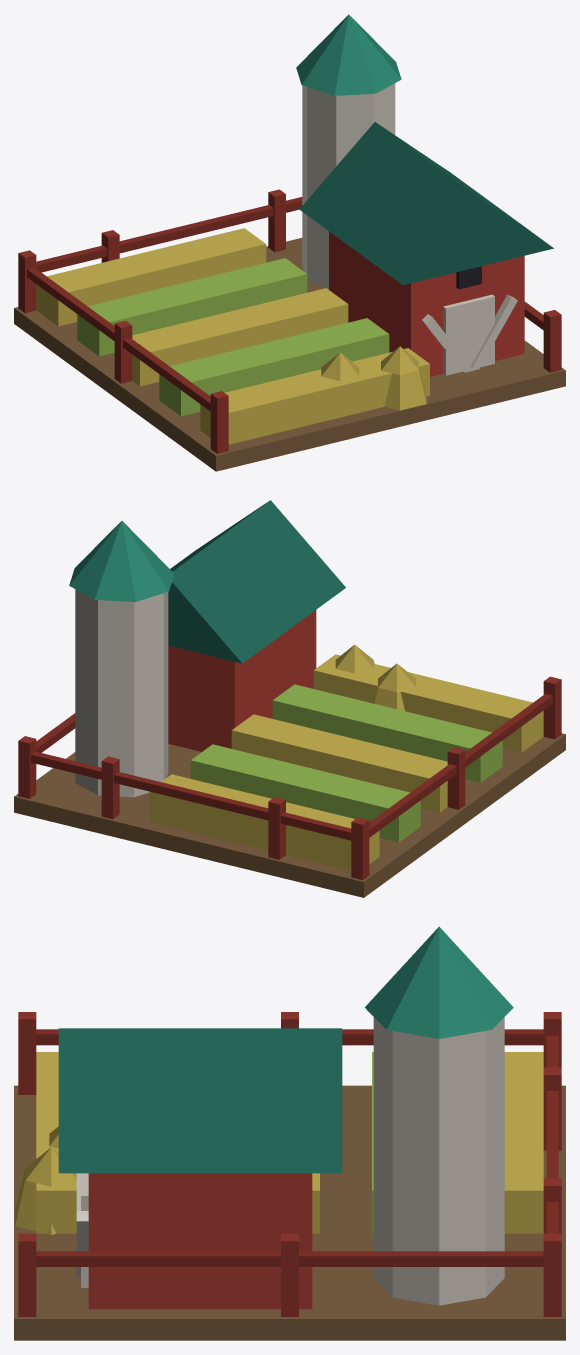
Rendered from farm_t2.glb.
3 views of the same model, one above another, from view 1: azimuth 30°, elevation 25°; view 2: azimuth 150°, elevation 25°; view 3: azimuth 270°, elevation 25° (orthographic). The views are drawn at different scales.
Visible parts, largest first — view 1: body; view 2: body; view 3: body.
Boxes of the visible parts, x1,y1,x2,y2 form: body: (14, 14, 565, 471); body: (14, 500, 565, 897); body: (14, 926, 565, 1340).
Size of the model in its own units: 1.88 by 1.38 by 1.85.
